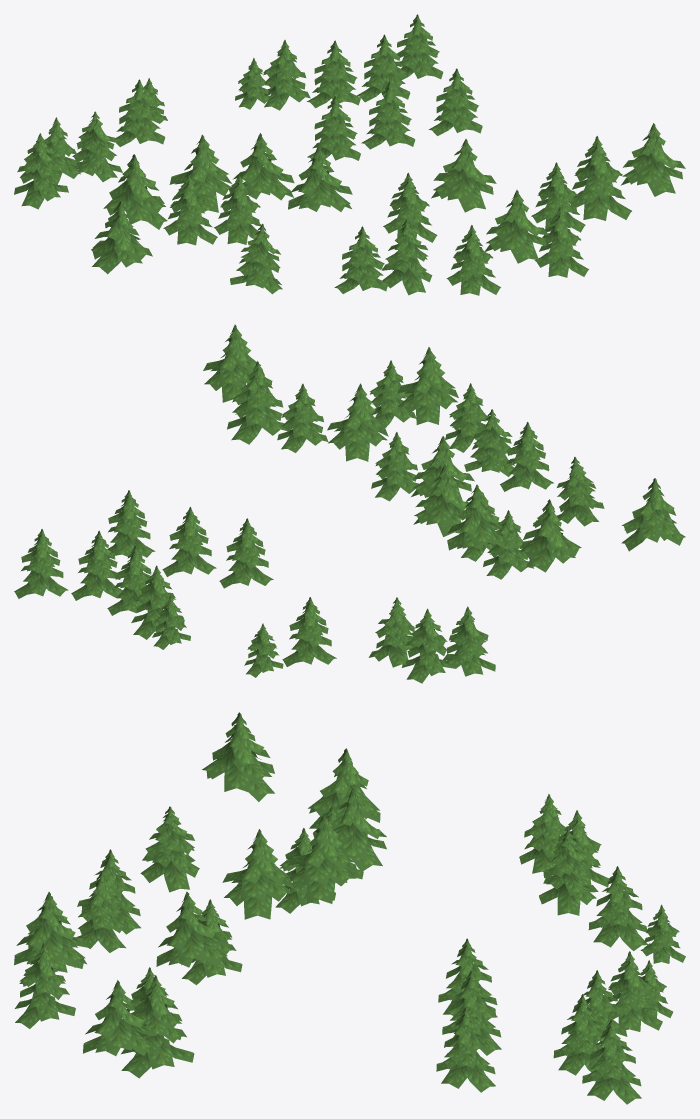
File: songshuye_05.FBX
3 views of the same model, one above another, from view 1: azimuth 30°, elevation 25°; view 2: azimuth 150°, elevation 25°; view 3: azimuth 270°, elevation 25° (orthographic). The views are drawn at different scales.
Parts seen in each view (by area): view 1: Object025; view 2: Object025; view 3: Object025.
Part boxes in pixels (box(x1,y1,x2,y2)): Object025: box(14, 14, 685, 295); Object025: box(14, 324, 685, 683); Object025: box(14, 712, 685, 1104).
Bounding box in the file's own units: 4741 × 950 × 4519.
